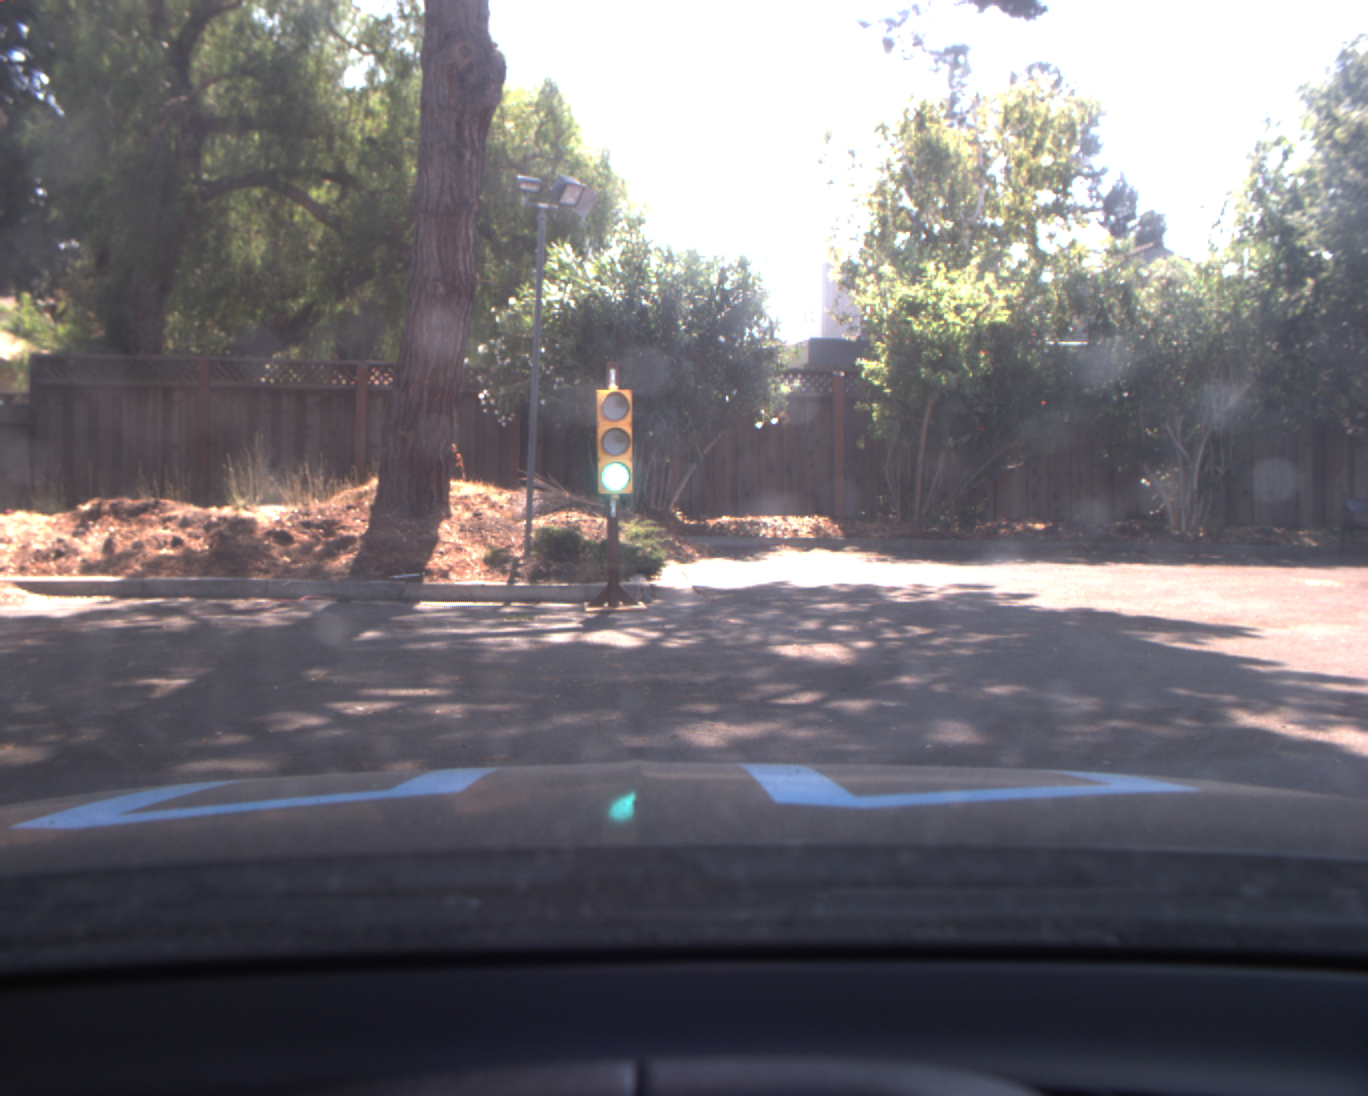green: (592, 382, 639, 499)
